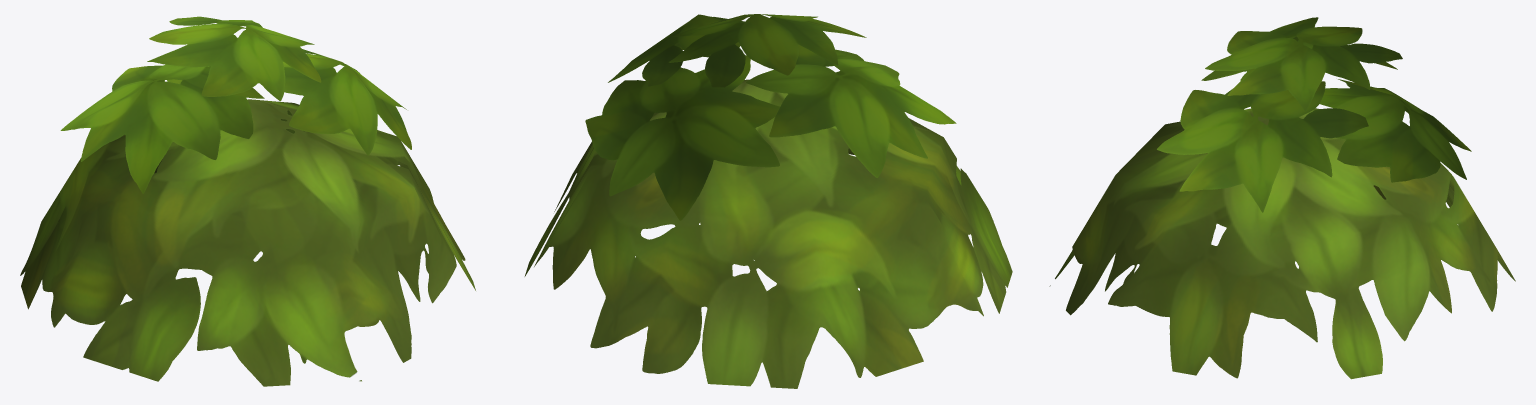
File: Remains_plants_05.fbx
3 views of the same model, side by side, from view 1: azimuth 30°, elevation 25°; view 2: azimuth 150°, elevation 25°; view 3: azimuth 270°, elevation 25° (orthographic). The views are drawn at different scales.
Parts seen in each view (by area): view 1: Remains_plants_05; view 2: Remains_plants_05; view 3: Remains_plants_05.
Part boxes in pixels (x1,y1,x2,y2): Remains_plants_05: (20,16,475,386); Remains_plants_05: (524,14,1012,388); Remains_plants_05: (1049,17,1515,379).
Size of the model in its own units: 116 by 67.67 by 116.
1 material, 1 textured.
